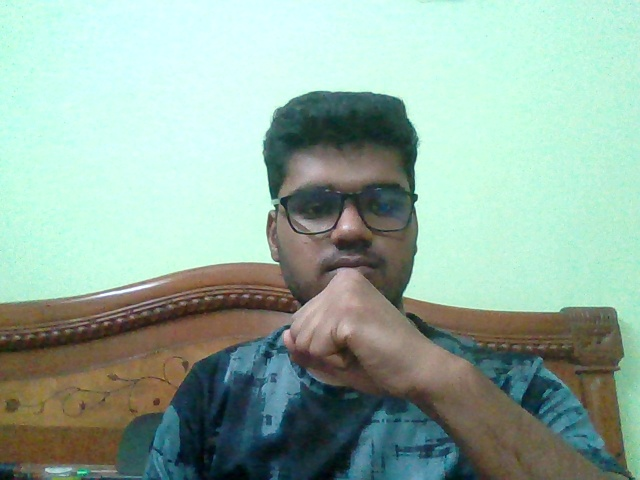Rock: (283, 268, 460, 398)
